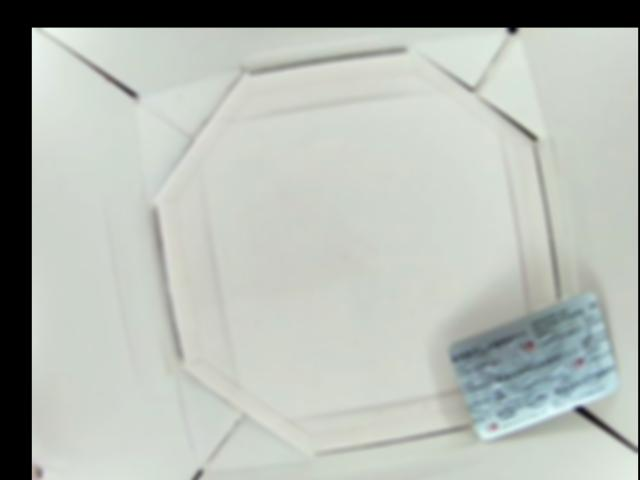Medicine: (446, 291, 620, 437)
